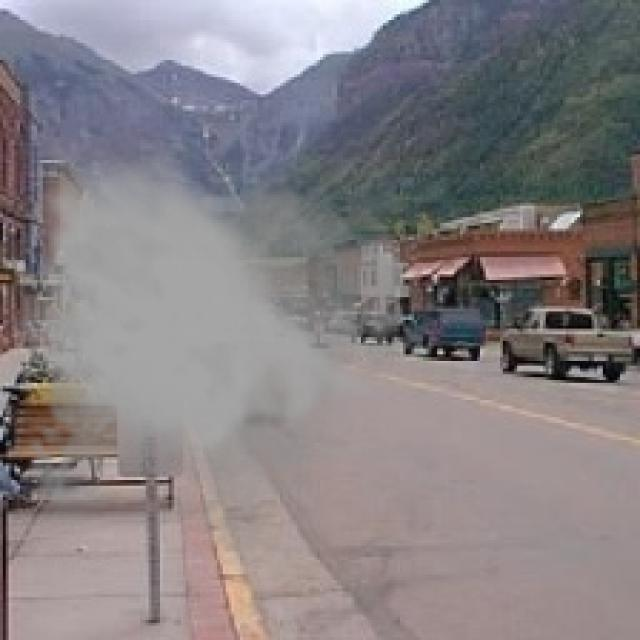Smoke: (14, 137, 412, 552)
